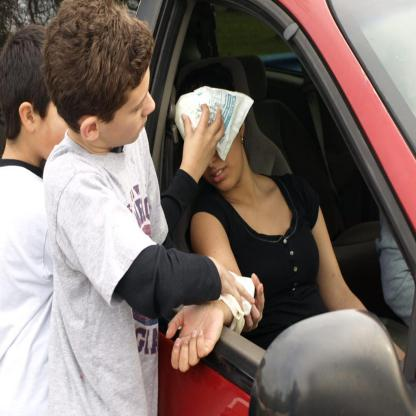face: (193, 109, 242, 194), (117, 60, 155, 145)
